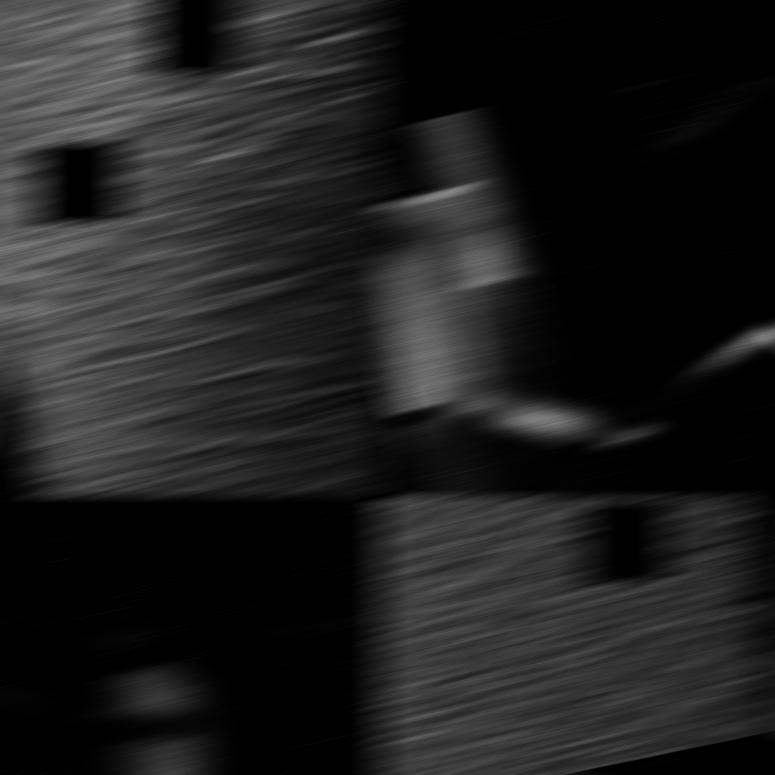Airbag: (372, 1, 775, 494), (0, 1, 386, 494), (372, 497, 775, 773), (0, 497, 386, 773)
